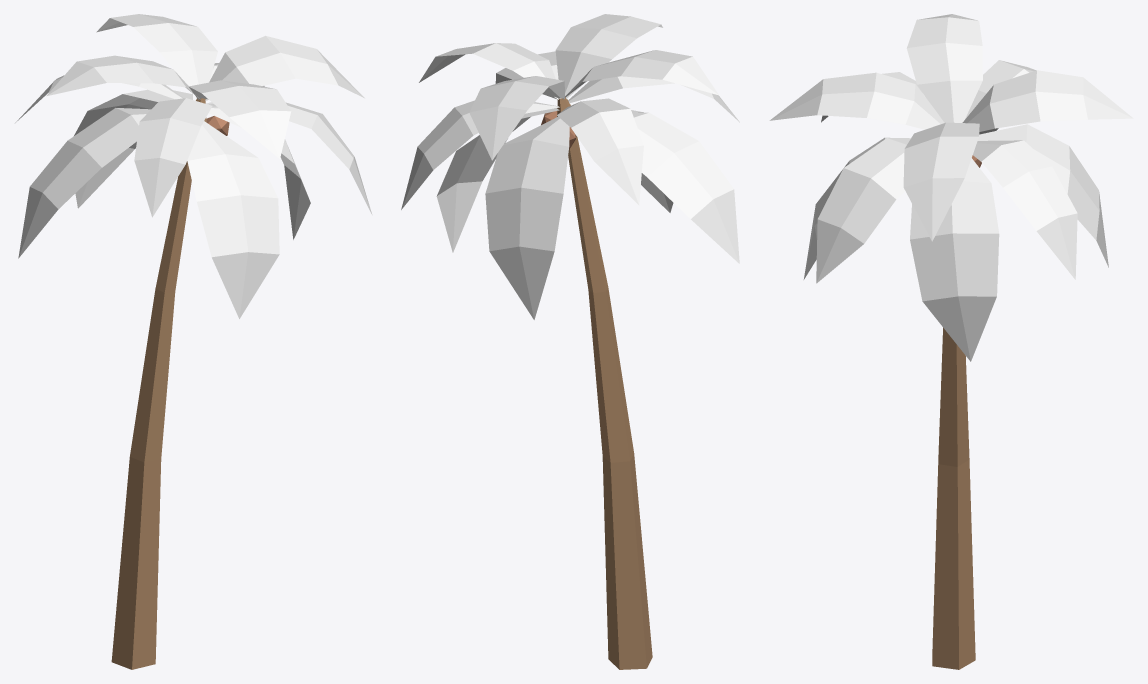
Rendered from Palm_Tree_Coconut_OneSided_l_Snow_02_LOD.fbx.
The picture shows the model from 3 angles, left to right: view 1: azimuth 30°, elevation 25°; view 2: azimuth 150°, elevation 25°; view 3: azimuth 270°, elevation 25°; orthographic projection. The views are drawn at different scales.
Visible parts, largest first — view 1: Palm_Tree_Coconut_OneSided_l_Snow_02_LOD0; view 2: Palm_Tree_Coconut_OneSided_l_Snow_02_LOD0; view 3: Palm_Tree_Coconut_OneSided_l_Snow_02_LOD0.
Part boxes in pixels (bbox=[...]): Palm_Tree_Coconut_OneSided_l_Snow_02_LOD0: bbox=[15, 14, 372, 669]; Palm_Tree_Coconut_OneSided_l_Snow_02_LOD0: bbox=[401, 14, 739, 669]; Palm_Tree_Coconut_OneSided_l_Snow_02_LOD0: bbox=[769, 14, 1133, 669].
Size of what is drawn, in the model's own units: 499 by 864 by 459.
